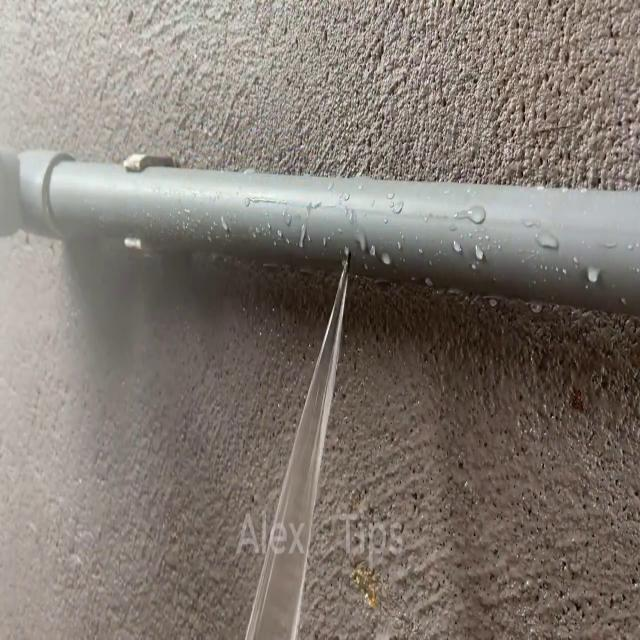leak: (247, 256, 347, 640)
